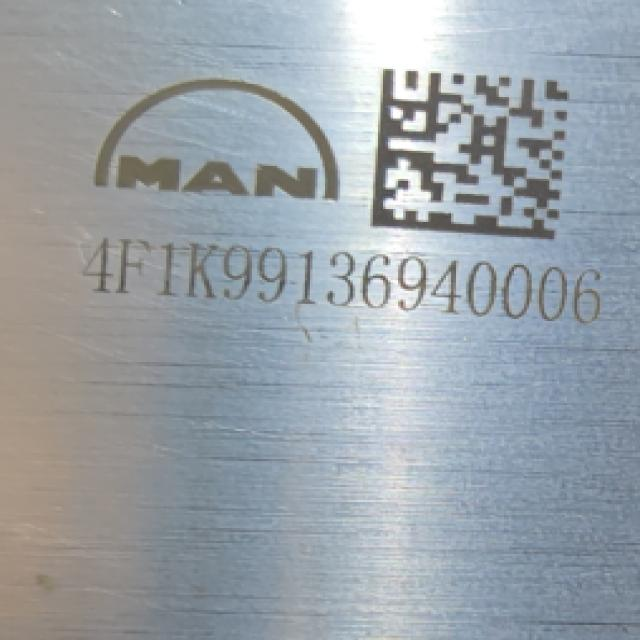dmc: (370, 68, 570, 240)
